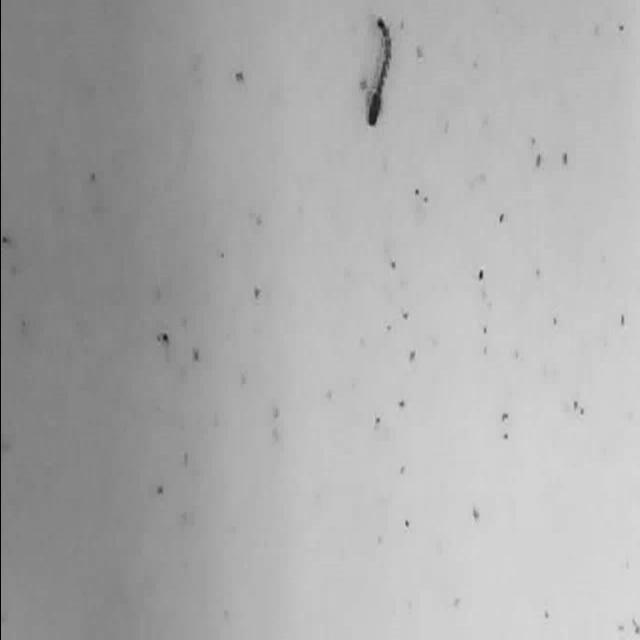larvas: (367, 16, 393, 127)
